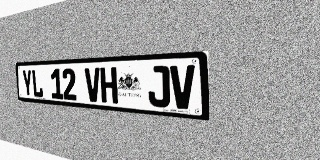1: (50, 69, 64, 99)
2: (62, 68, 77, 100)
H: (100, 67, 118, 104)
J: (147, 65, 170, 108)
L: (31, 69, 43, 98)
V: (170, 65, 195, 110), (85, 67, 101, 102)
Y: (22, 69, 33, 97)
